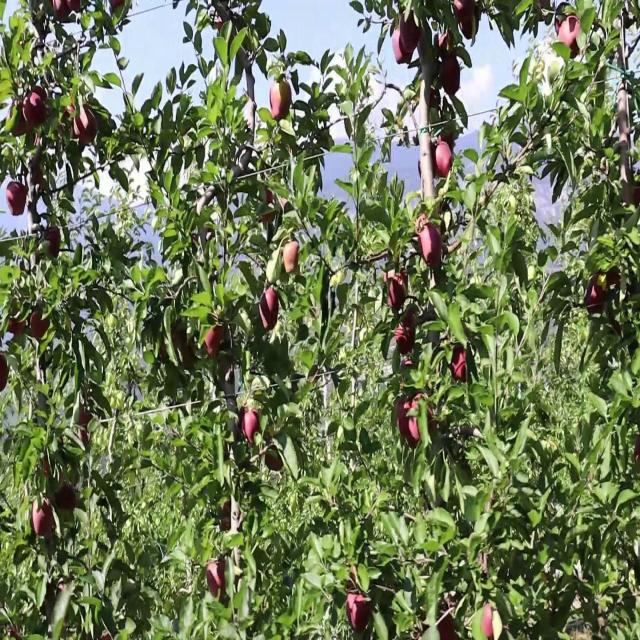apple: (408, 398, 436, 446), (348, 590, 372, 633), (32, 497, 56, 540), (420, 227, 444, 270), (24, 85, 48, 128), (76, 106, 99, 149), (440, 56, 461, 100), (272, 78, 293, 121), (400, 14, 422, 55), (240, 405, 261, 446), (260, 291, 280, 334), (584, 277, 606, 316), (208, 561, 228, 599), (620, 170, 640, 208), (388, 277, 409, 313), (160, 327, 181, 363), (484, 604, 505, 639), (8, 184, 28, 220), (392, 28, 412, 64), (8, 99, 28, 135), (24, 92, 44, 128), (204, 327, 225, 361), (396, 319, 415, 356), (220, 504, 244, 533), (460, 7, 479, 43), (396, 398, 413, 437), (620, 177, 640, 208), (284, 241, 301, 277), (452, 348, 469, 384), (436, 142, 452, 180), (260, 191, 277, 226), (220, 504, 240, 533), (564, 14, 581, 48), (160, 334, 179, 364), (264, 447, 284, 475), (32, 85, 48, 119), (60, 483, 77, 514), (484, 604, 499, 639), (32, 312, 50, 341), (420, 28, 435, 60), (456, 0, 476, 23), (80, 412, 92, 446), (346, 561, 360, 590), (440, 28, 455, 55), (440, 618, 459, 639), (56, 1, 71, 27), (48, 227, 61, 256), (424, 85, 439, 108), (8, 319, 26, 338), (0, 355, 9, 391), (64, 106, 76, 133), (476, 554, 490, 576), (608, 270, 623, 290), (416, 213, 429, 235), (404, 312, 417, 334), (184, 348, 196, 370), (160, 341, 170, 363), (36, 163, 44, 190), (400, 362, 414, 375), (444, 135, 457, 148), (572, 42, 580, 60), (636, 433, 640, 468), (72, 0, 81, 14), (557, 21, 563, 41), (72, 1, 81, 14), (44, 462, 51, 476)
